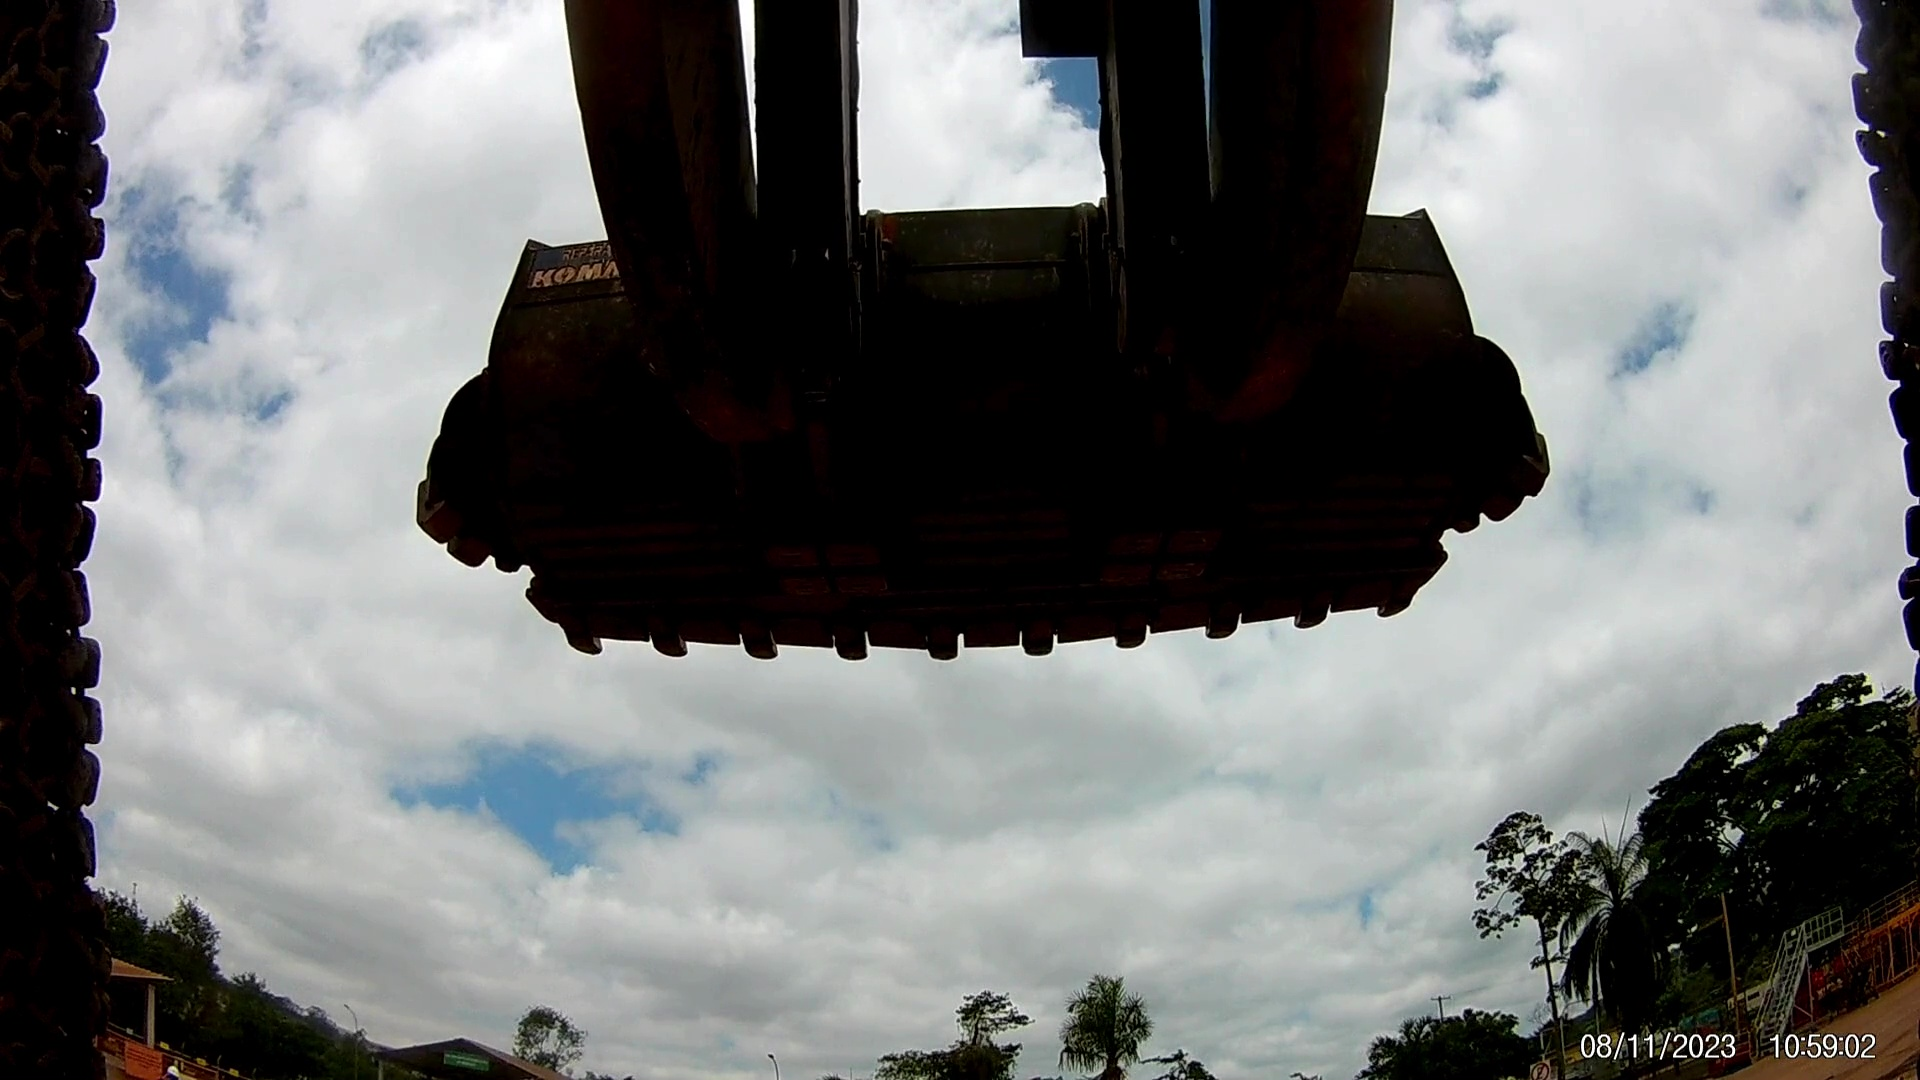FPS: (720, 607, 793, 686), (823, 607, 887, 686), (1013, 605, 1080, 679), (1098, 603, 1170, 667), (924, 593, 973, 686), (651, 593, 702, 676), (549, 611, 620, 669), (1292, 564, 1337, 647), (1375, 560, 1416, 634), (1211, 585, 1247, 650)
